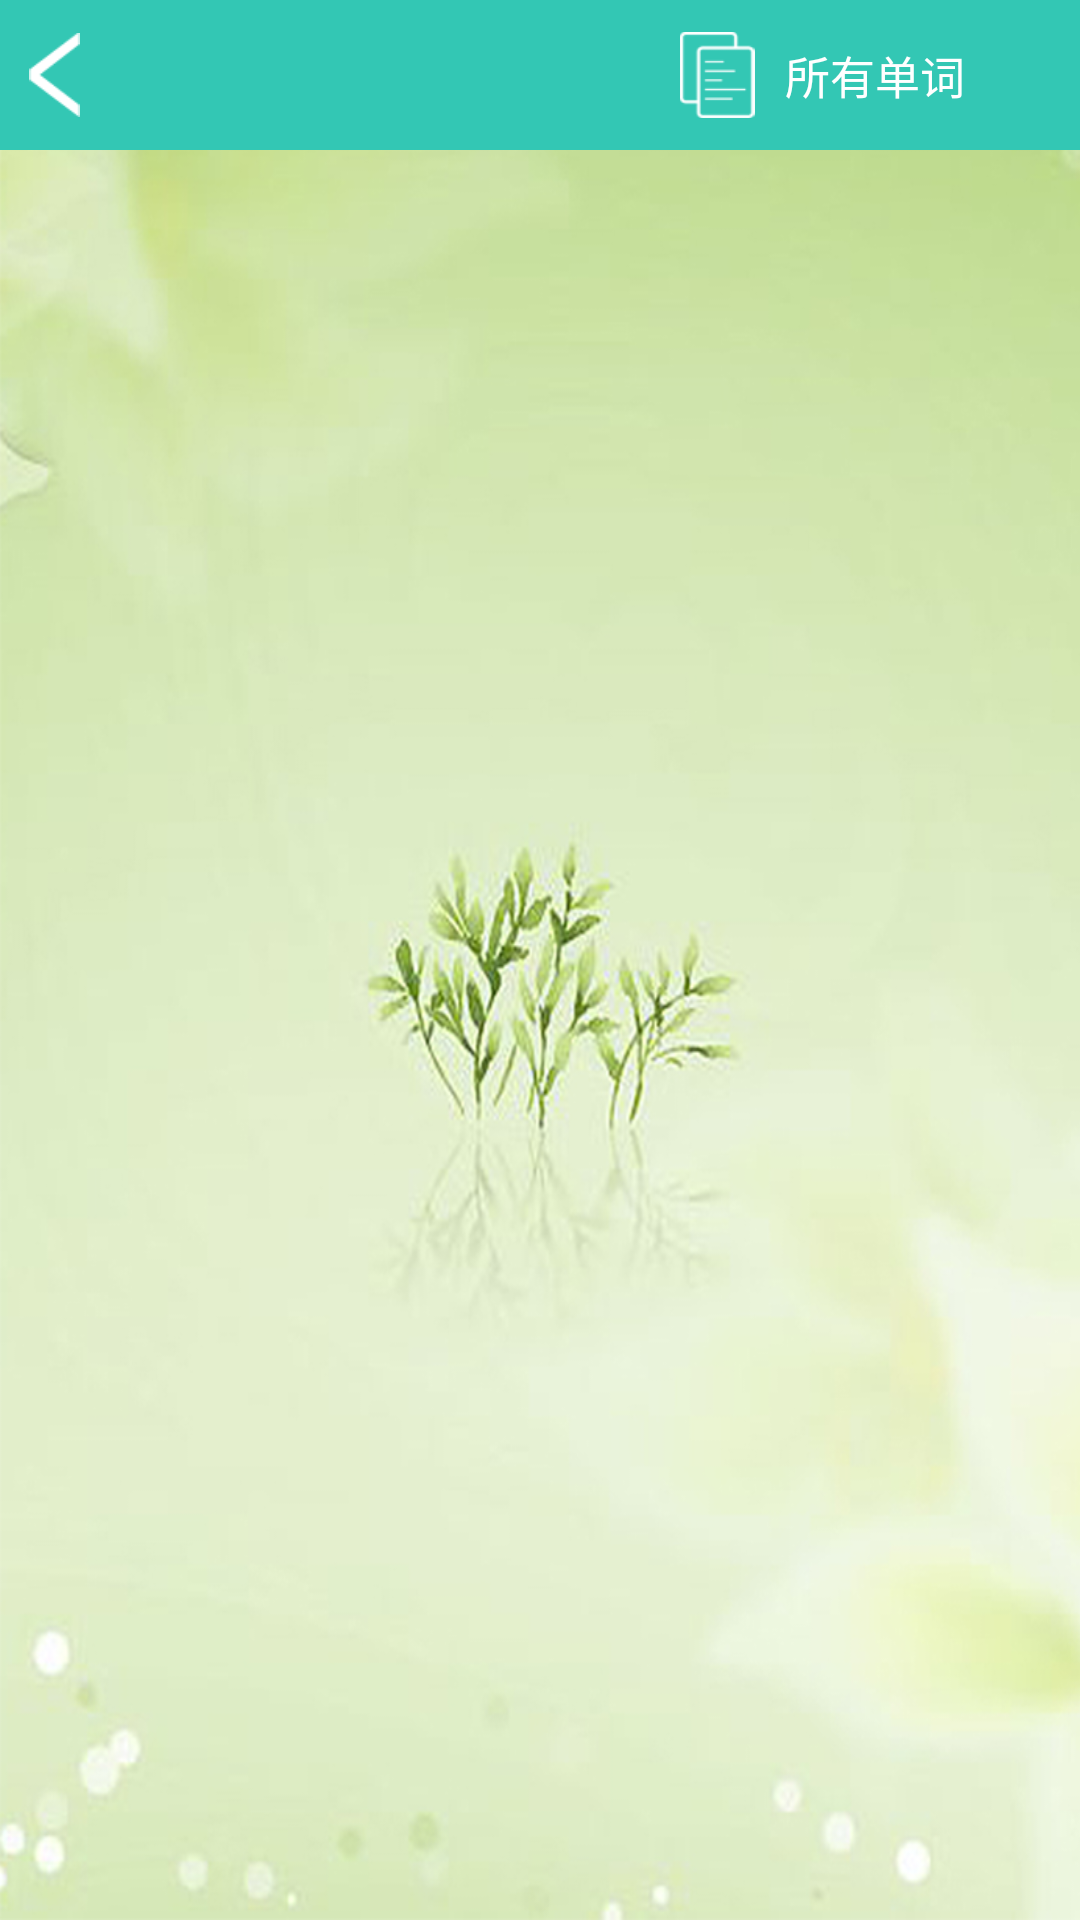

Icons on this 1080px×1920px Android screen, each with the point to tap as point (x, y):
back: point (54, 75)
learn: point (717, 75)
